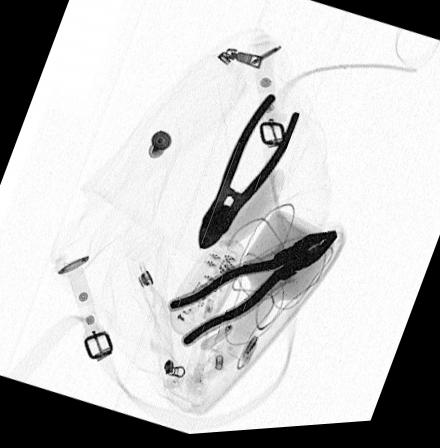Pliers: (166, 233, 339, 348), (195, 95, 303, 252)
